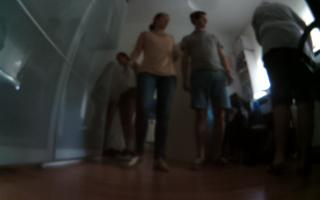person: (250, 1, 316, 177), (181, 9, 239, 174), (126, 11, 183, 173), (106, 48, 137, 161)
